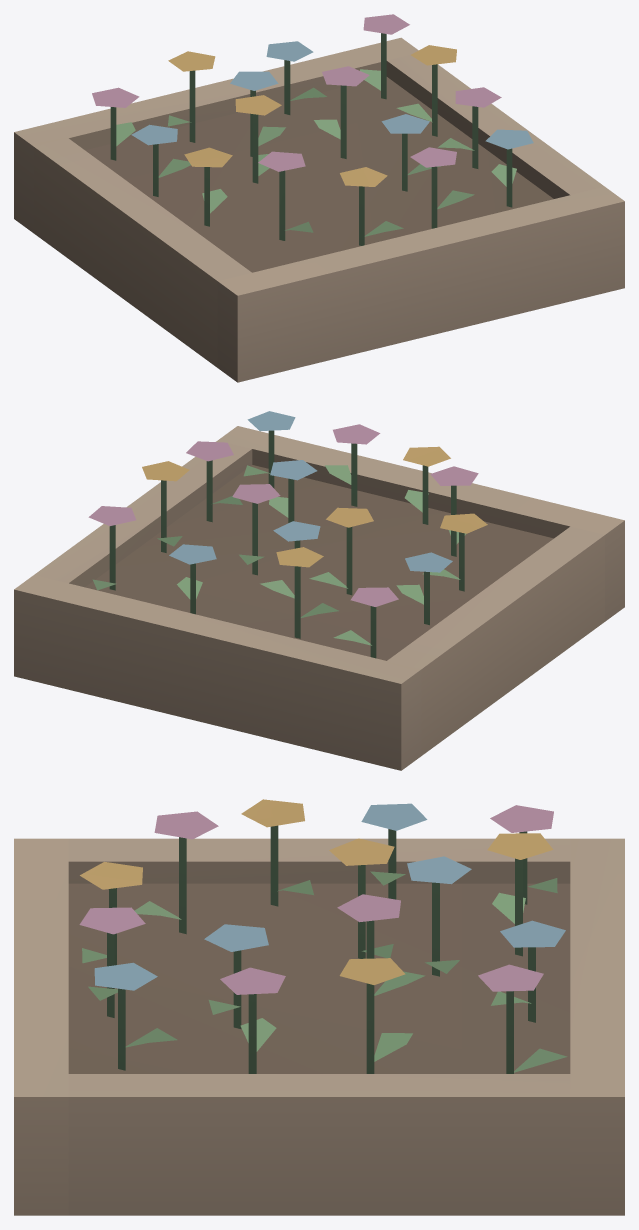
Rendered from flowers.lod1.glb.
3 views of the same model, one above another, from view 1: azimuth 30°, elevation 25°; view 2: azimuth 150°, elevation 25°; view 3: azimuth 270°, elevation 25° (orthographic). The views are drawn at different scales.
Size of the model in its own units: 1.4 by 0.5247 by 1.4.
